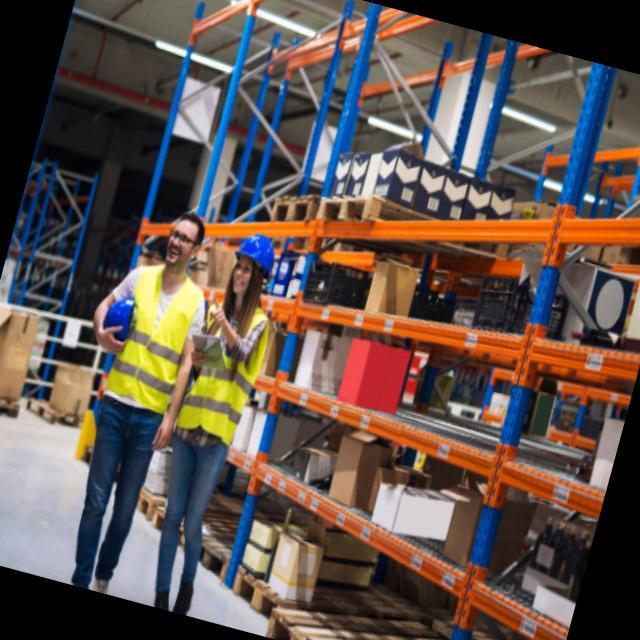boots: (143, 567, 206, 618)
helmet: (221, 225, 282, 308)
vest: (91, 253, 212, 420), (164, 280, 281, 452)
